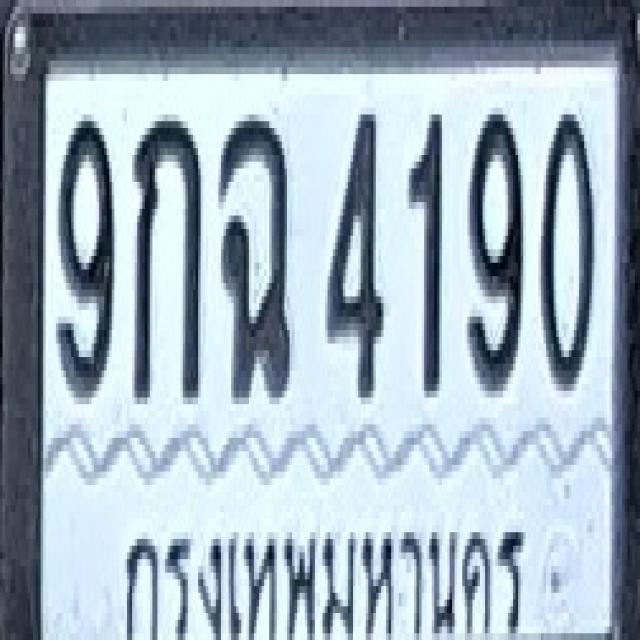-: (217, 115, 291, 398), (132, 115, 201, 398)
0: (540, 105, 593, 388)
1: (406, 108, 442, 391)
4: (325, 108, 384, 397)
9: (466, 108, 522, 391), (57, 115, 113, 398)
BKK: (112, 507, 538, 640)
